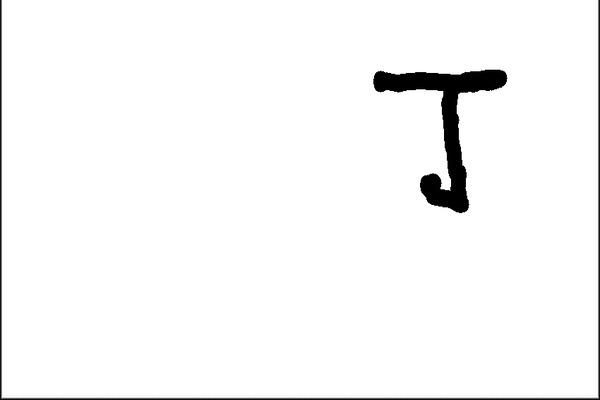J: (365, 60, 514, 221)
